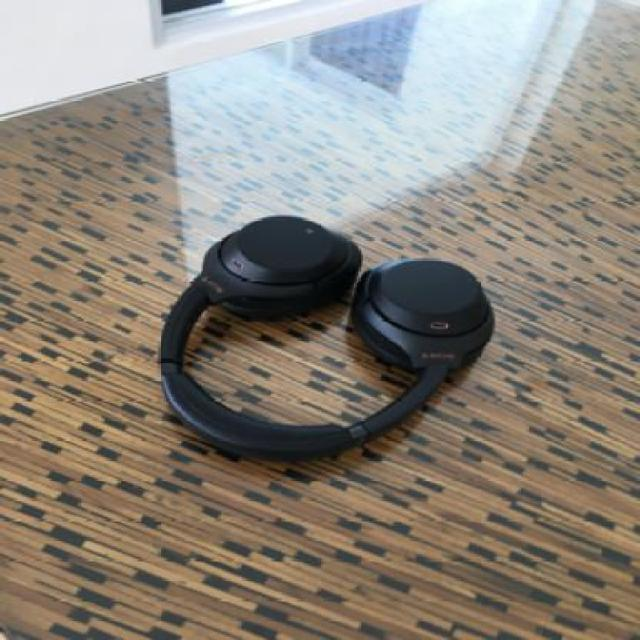earphone: (138, 170, 508, 478)
